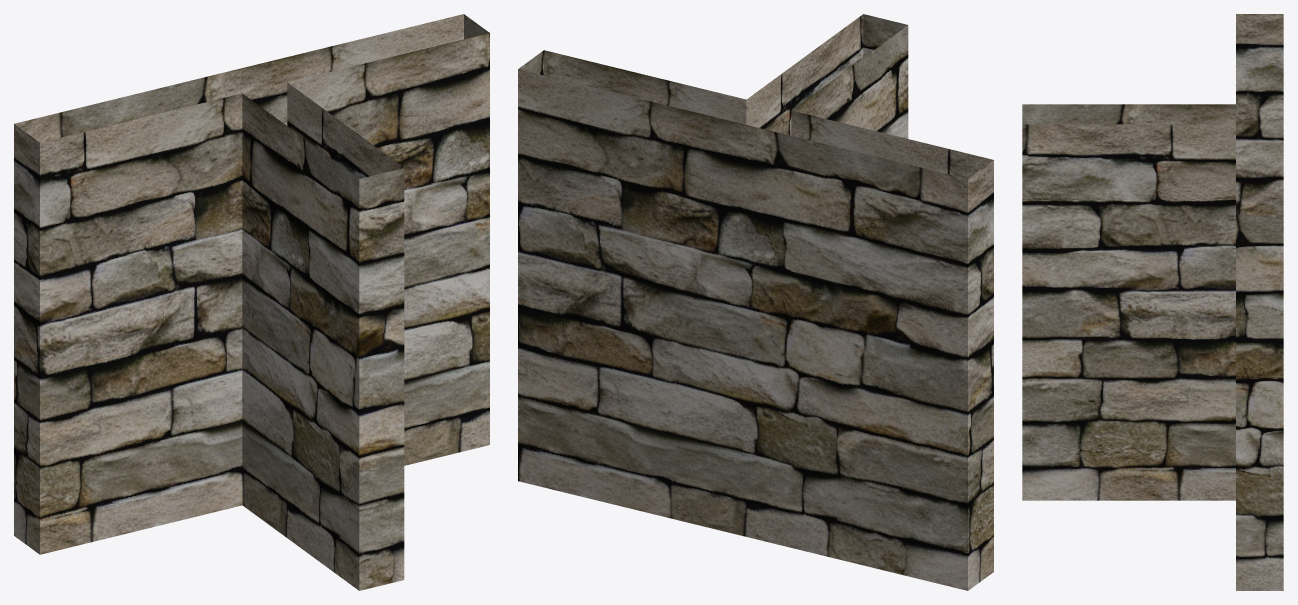
The model's file is Wall_T.fbx.
3 renders of one model, left to right at view 1: azimuth 30°, elevation 25°; view 2: azimuth 150°, elevation 25°; view 3: azimuth 270°, elevation 25°, orthographic. The views are drawn at different scales.
Parts seen in each view (by area): view 1: Wall_T; view 2: Wall_T; view 3: Wall_T.
Part boxes in pixels (<box>): Wall_T: <box>14,14,489,590</box>; Wall_T: <box>518,14,993,590</box>; Wall_T: <box>1022,14,1283,590</box>.
Bounding box in the file's own units: 4 × 3.5 × 2.2.
